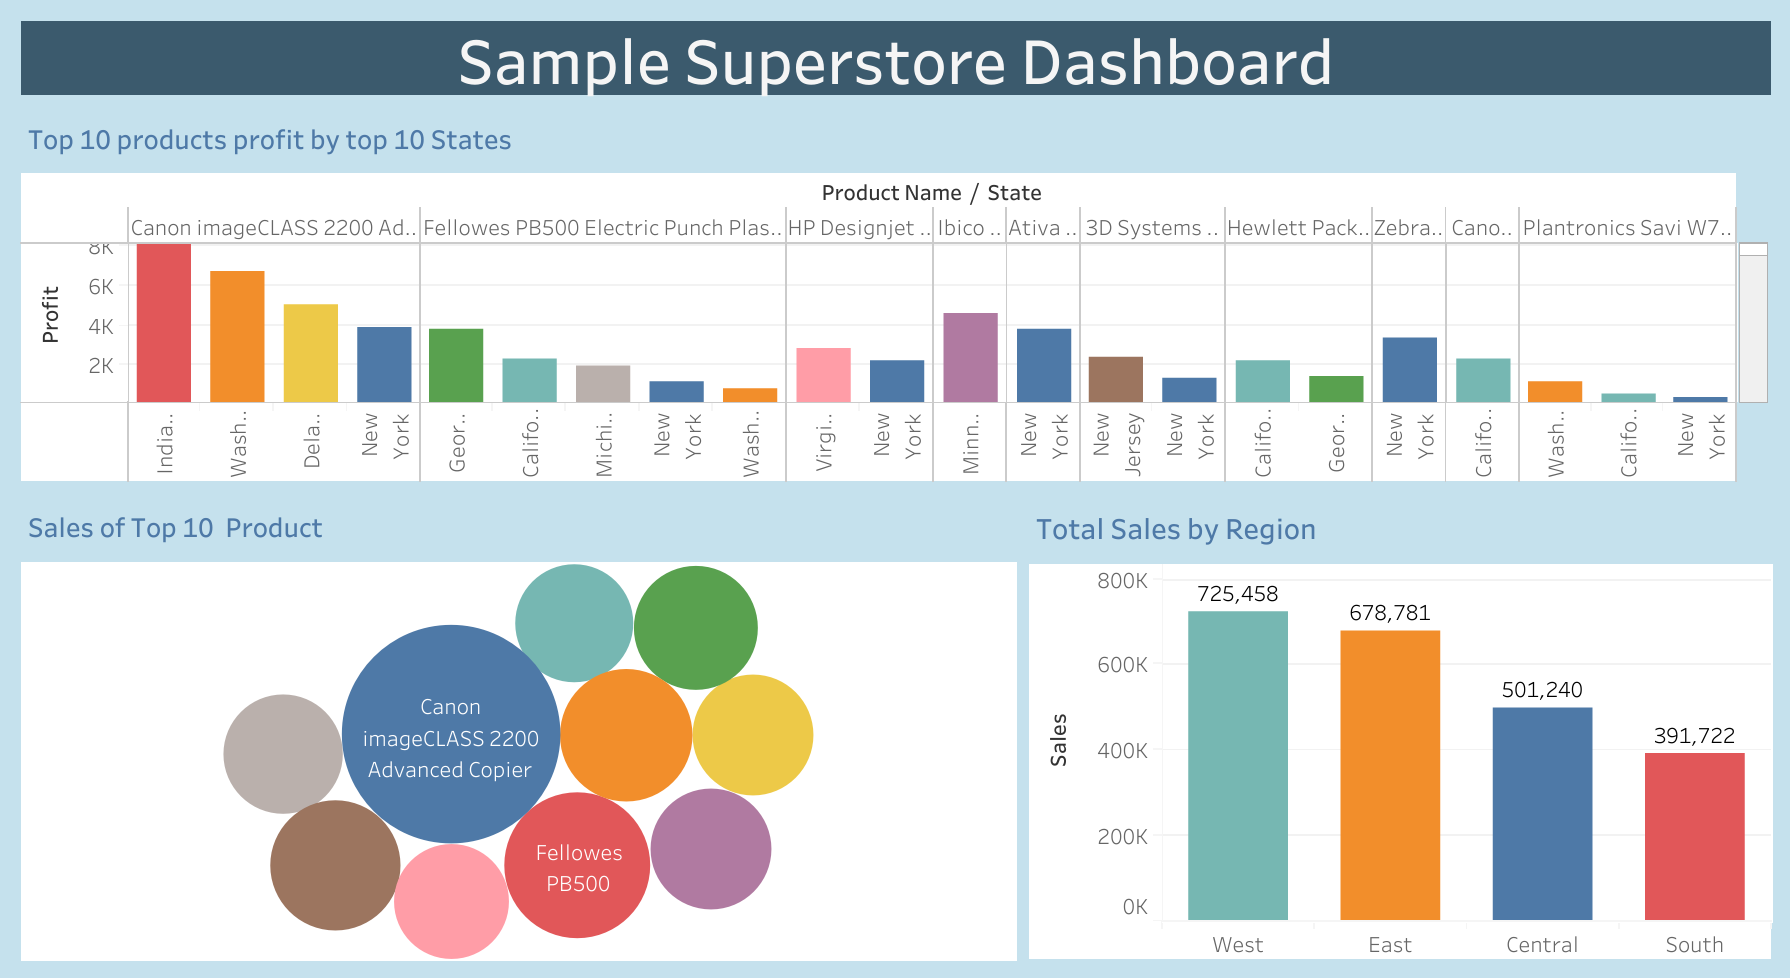

Layout of this report page (visuals, bound fields, positions):
{"tool":"tableau","page":{"name":"Sample Superstore Dashboard","canvas":[1000,1000],"units":"permille","ordinal":0},"visuals":[{"type":"title","box":[8.7,14.3,982.7,89.3]},{"type":"worksheet","title":"Top 10 products profit by top 10 States","mark":"Automatic","rows":["Profit"],"cols":["Product Name","State"],"box":[8.7,103.6,982.7,396.4]},{"type":"worksheet","title":"Sales of Top 10  Product  ","mark":"Circle","box":[8.7,500,561.2,485.7]},{"type":"worksheet","title":"Total Sales by Region","mark":"Automatic","rows":["Sales"],"cols":["Region"],"box":[569.9,500,421.4,485.7]}]}

Visuals, with their boxes on the dashboard's canvas, which has no fixed pixel size, in thousandths of its width and height (x1, y1, x2, y2). These are canvas units, not pixel positions in the 1790x978 screenshot, which may show the page scaled, cropped or inside an application window:
title: bbox=(9, 14, 991, 104)
"Top 10 products profit by top 10 States" worksheet: bbox=(9, 104, 991, 500)
"Sales of Top 10  Product  " worksheet (Circle marks): bbox=(9, 500, 570, 986)
"Total Sales by Region" worksheet: bbox=(570, 500, 991, 986)
